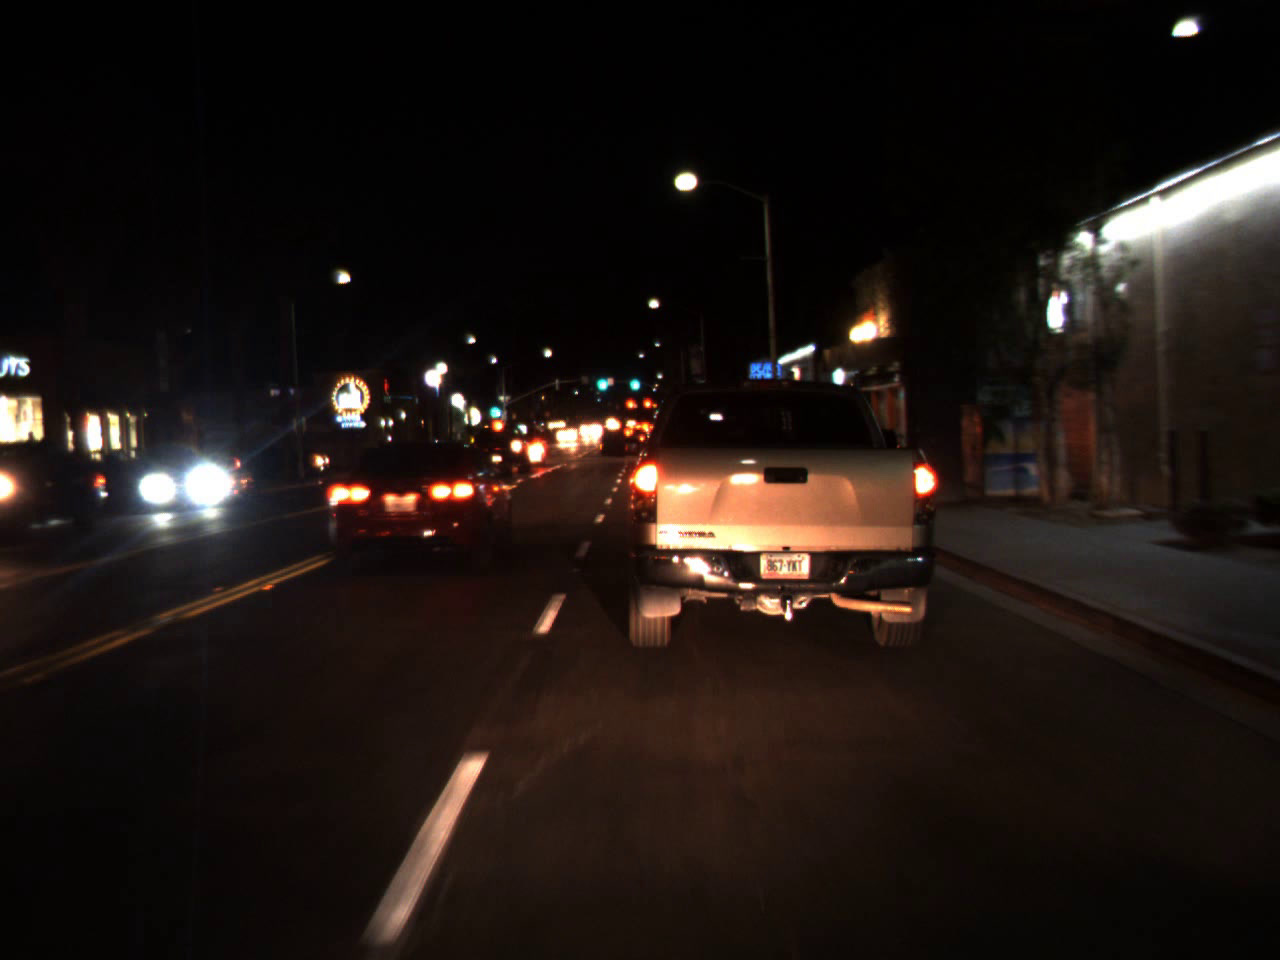go: (593, 365, 611, 395), (625, 365, 641, 395), (488, 394, 502, 421)
